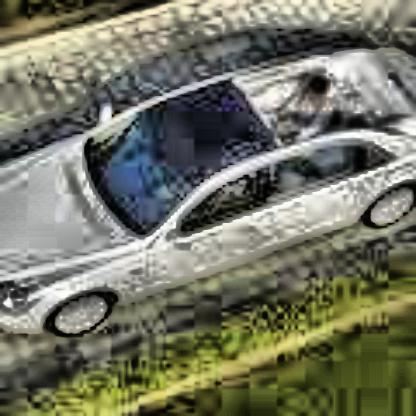Maybach Landaulet Convertible 2012: (4, 53, 416, 344)
